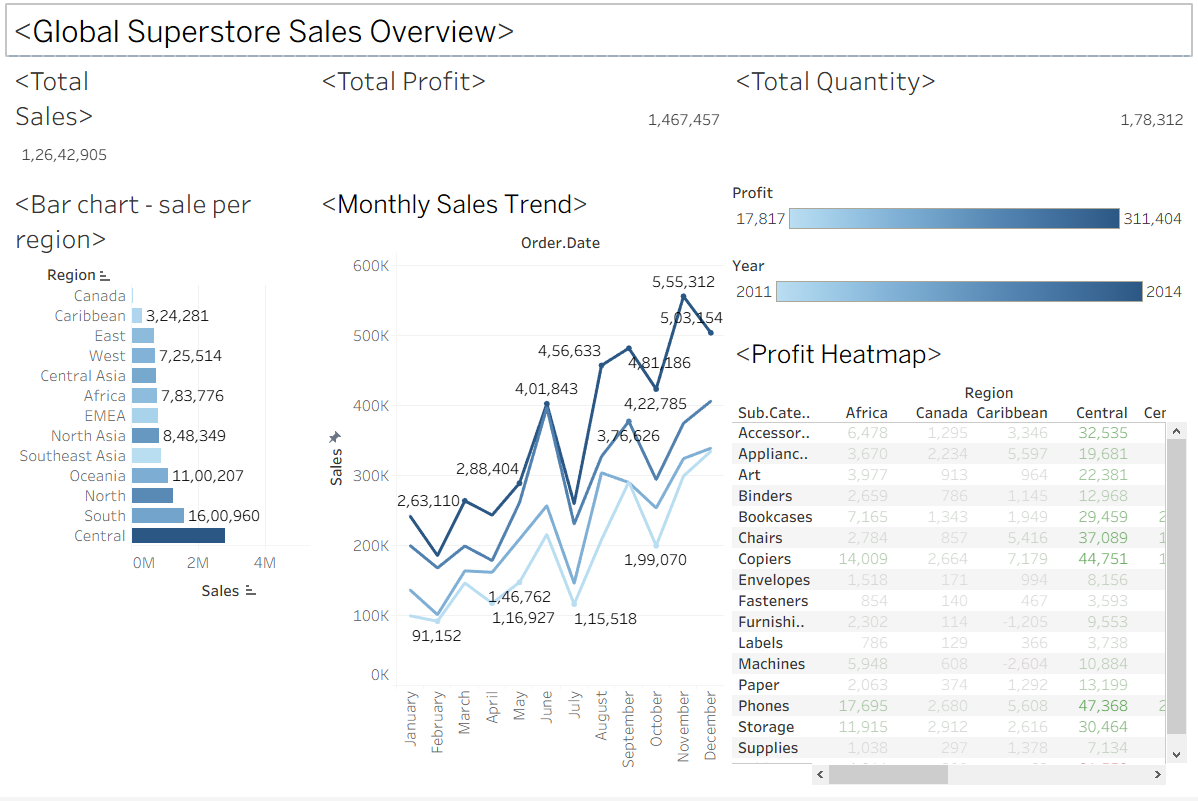

Layout of this report page (visuals, bound fields, positions):
{"tool":"tableau","page":{"name":"Dashboard 1","canvas":[1000,1000],"units":"permille","ordinal":0},"visuals":[{"type":"title","box":[6.7,10,986.7,62.5]},{"type":"worksheet","title":"Sheet 1","mark":"Automatic","box":[6.7,72.5,255.8,153.3]},{"type":"worksheet","title":"Sheet 2","mark":"Automatic","box":[262.5,72.5,345,153.3]},{"type":"worksheet","title":"Sheet 3","mark":"Automatic","box":[607.5,72.5,385.9,153.3]},{"type":"worksheet","title":"Sheet 4","mark":"Automatic","rows":["Region"],"cols":["Sales"],"box":[6.7,225.8,255.8,764.2]},{"type":"worksheet","title":"Sheet 5","mark":"Automatic","rows":["Sales"],"cols":["Order.Date"],"box":[262.5,225.8,345,764.2]},{"type":"legend","title":"Sheet 4","param":"[federated.0re1hrc1svxdpe141n7710fe7028].[sum:Profit:qk]","box":[607.5,225.8,385.9,91.2]},{"type":"legend","title":"Sheet 5","param":"[federated.0re1hrc1svxdpe141n7710fe7028].[none:Year:qk]","box":[607.5,317.1,385.9,96.2]},{"type":"worksheet","title":"Sheet 6","mark":"Automatic","rows":["Sub.Category"],"cols":["Region"],"box":[607.5,413.3,385.9,576.7]}]}

Visuals, with their boxes on the dashboard's canvas, which has no fixed pixel size, in thousandths of its width and height (x1, y1, x2, y2). These are canvas units, not pixel positions in the 1198x801 screenshot, which may show the page scaled, cropped or inside an application window:
title: [7,10,993,72]
"Sheet 1" worksheet: [7,72,262,226]
"Sheet 2" worksheet: [262,72,608,226]
"Sheet 3" worksheet: [608,72,993,226]
"Sheet 4" worksheet: [7,226,262,990]
"Sheet 5" worksheet: [262,226,608,990]
"Sheet 4" legend: [608,226,993,317]
"Sheet 5" legend: [608,317,993,413]
"Sheet 6" worksheet: [608,413,993,990]
